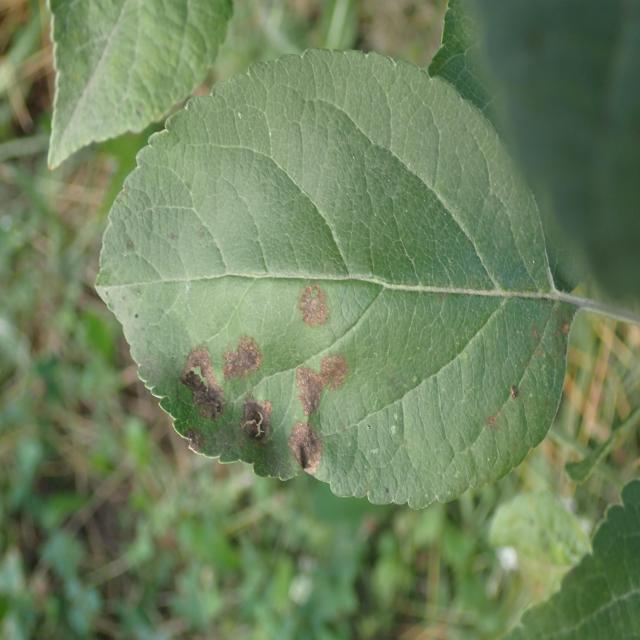scab: (108, 156, 592, 495)
